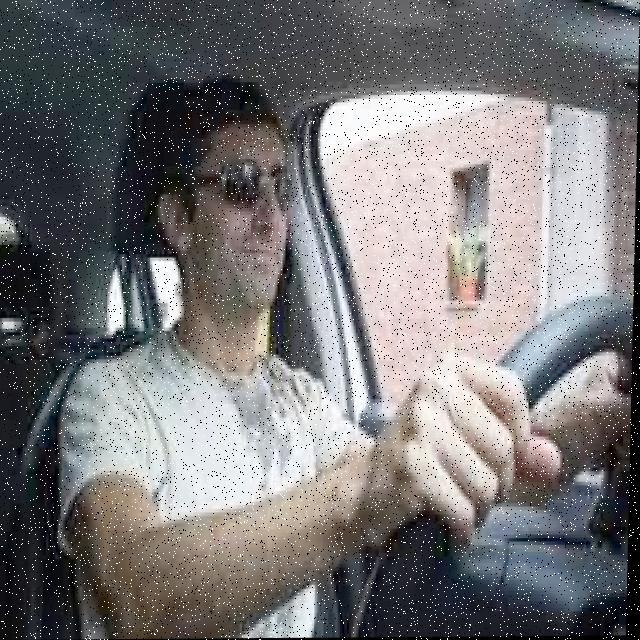noSeatbelt: (66, 312, 336, 636)
